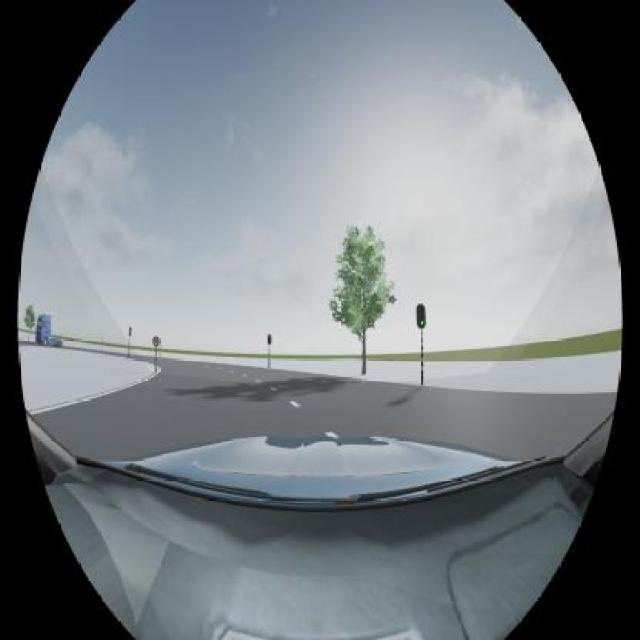forb_speed_over_70: (152, 336, 160, 347)
